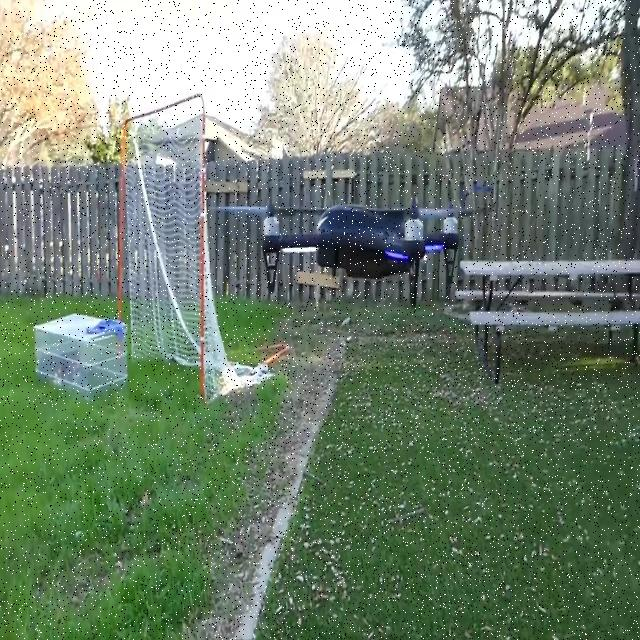UAV: (209, 192, 499, 308)
